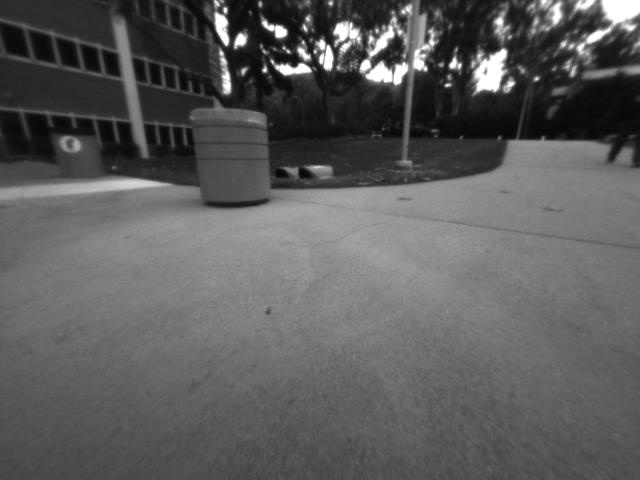trashcan: (180, 97, 277, 216), (44, 119, 109, 186)
